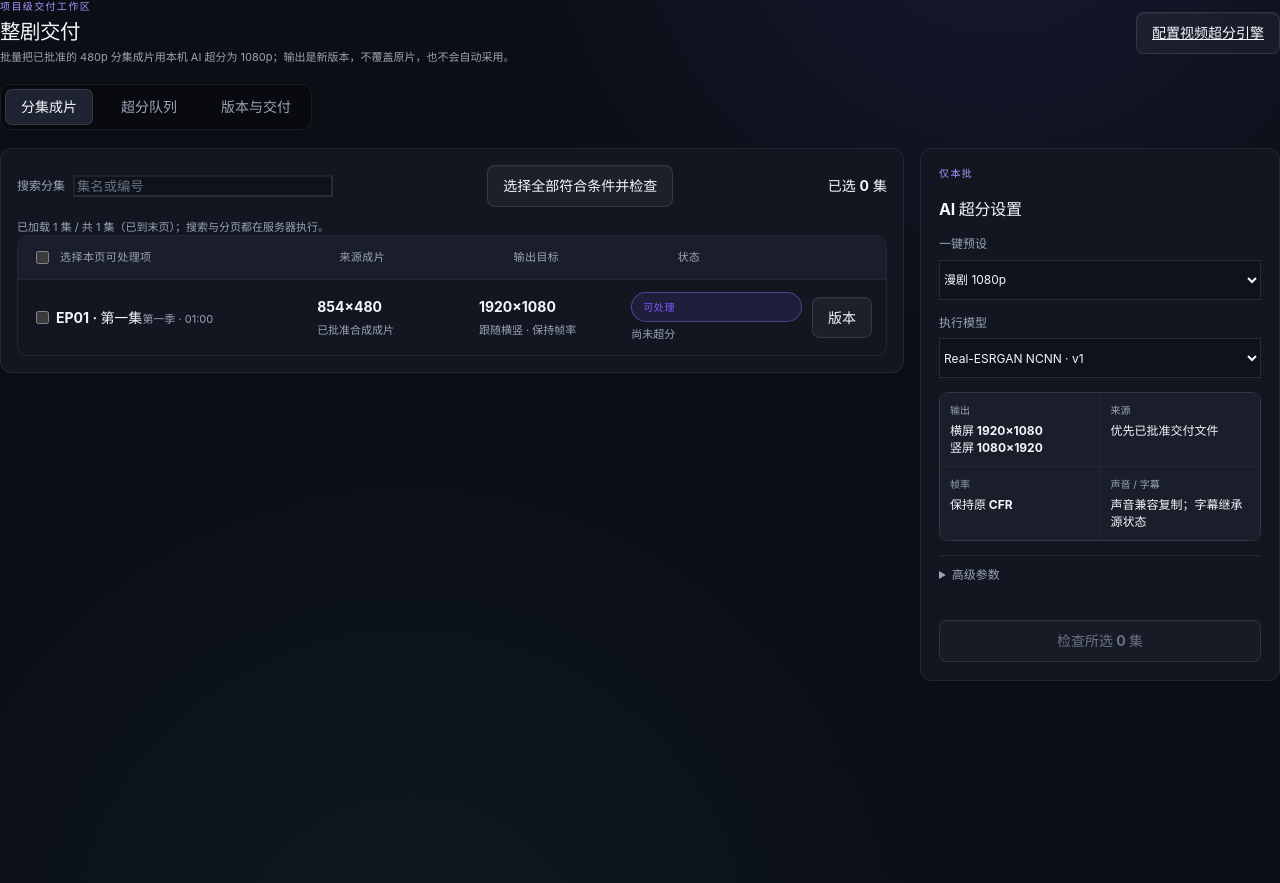
Test case: ProjectDeliveryPage › selects an approved episode, freezes a plan, and creates a non-deliverable five-second preview
Check: the heading "整剧交付" is shown, box [0,18,80,44]
Check: the text "854×480" is shown, box [317,298,382,315]
Click the checkbox named "选择 EP01 第一集" at (42, 317), box [36,311,49,324]
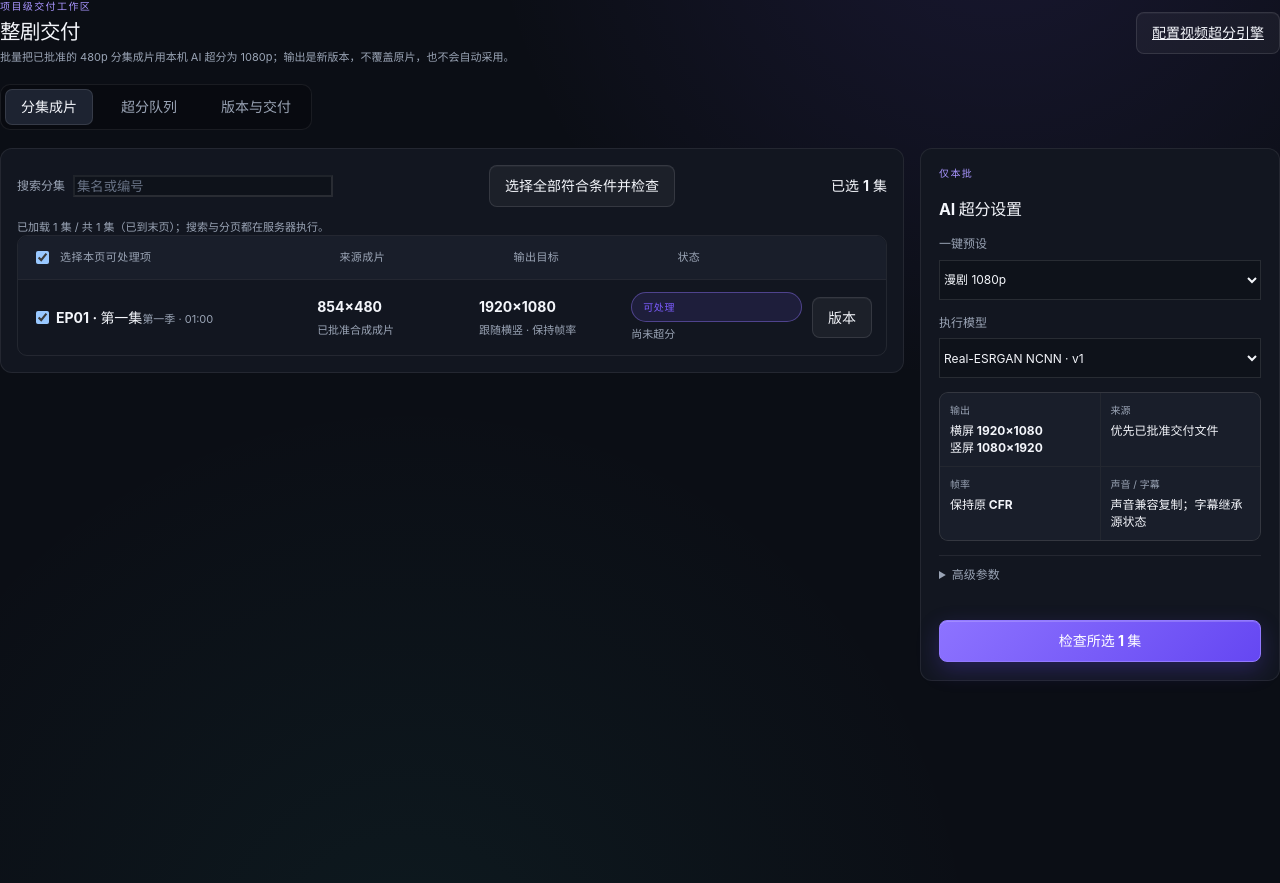
Click the button "检查所选 1 集" at (1100, 641), box [939,620,1261,662]
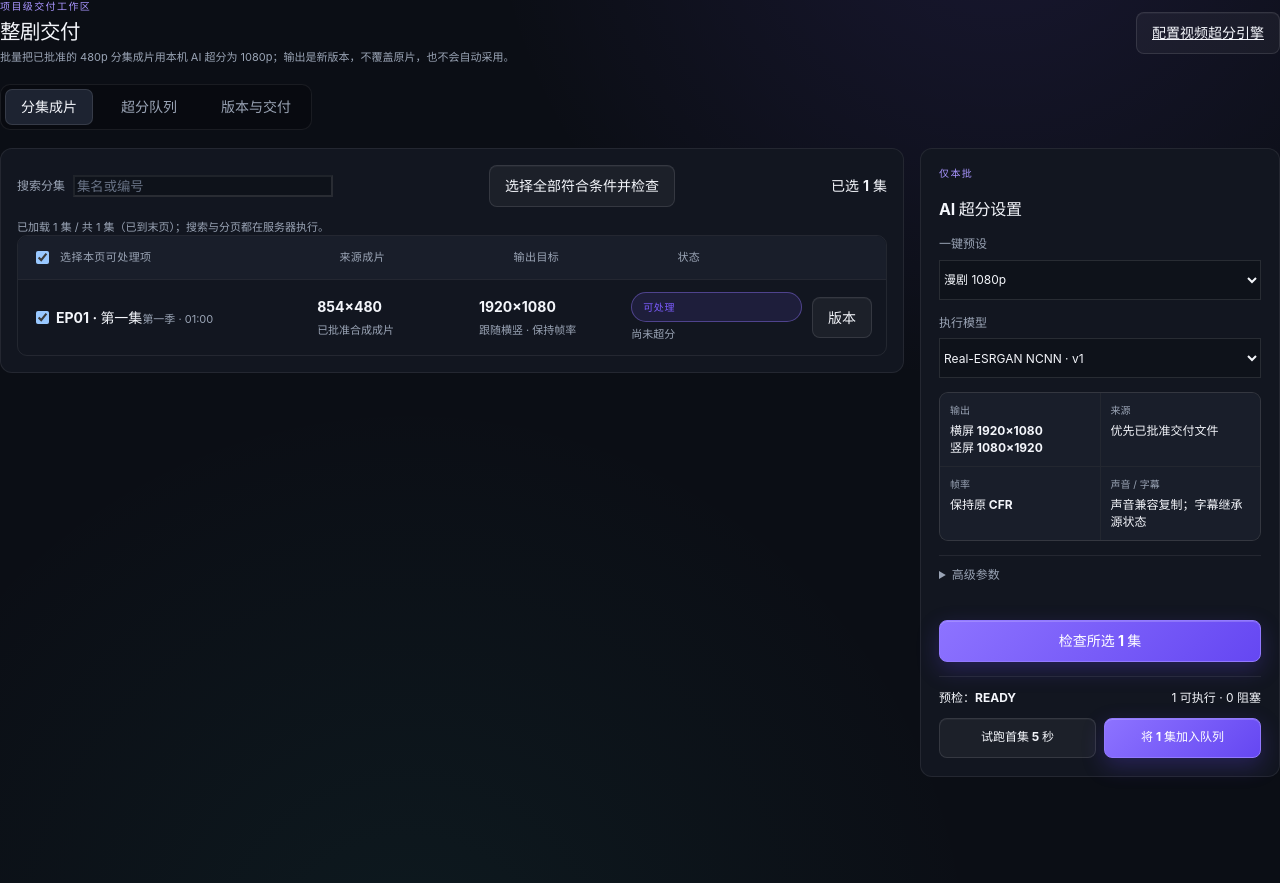
Check: the text "预检：READY" is shown, box [939,689,1016,708]
Click the button "试跑首集 5 秒" at (1018, 738), box [939,718,1096,758]
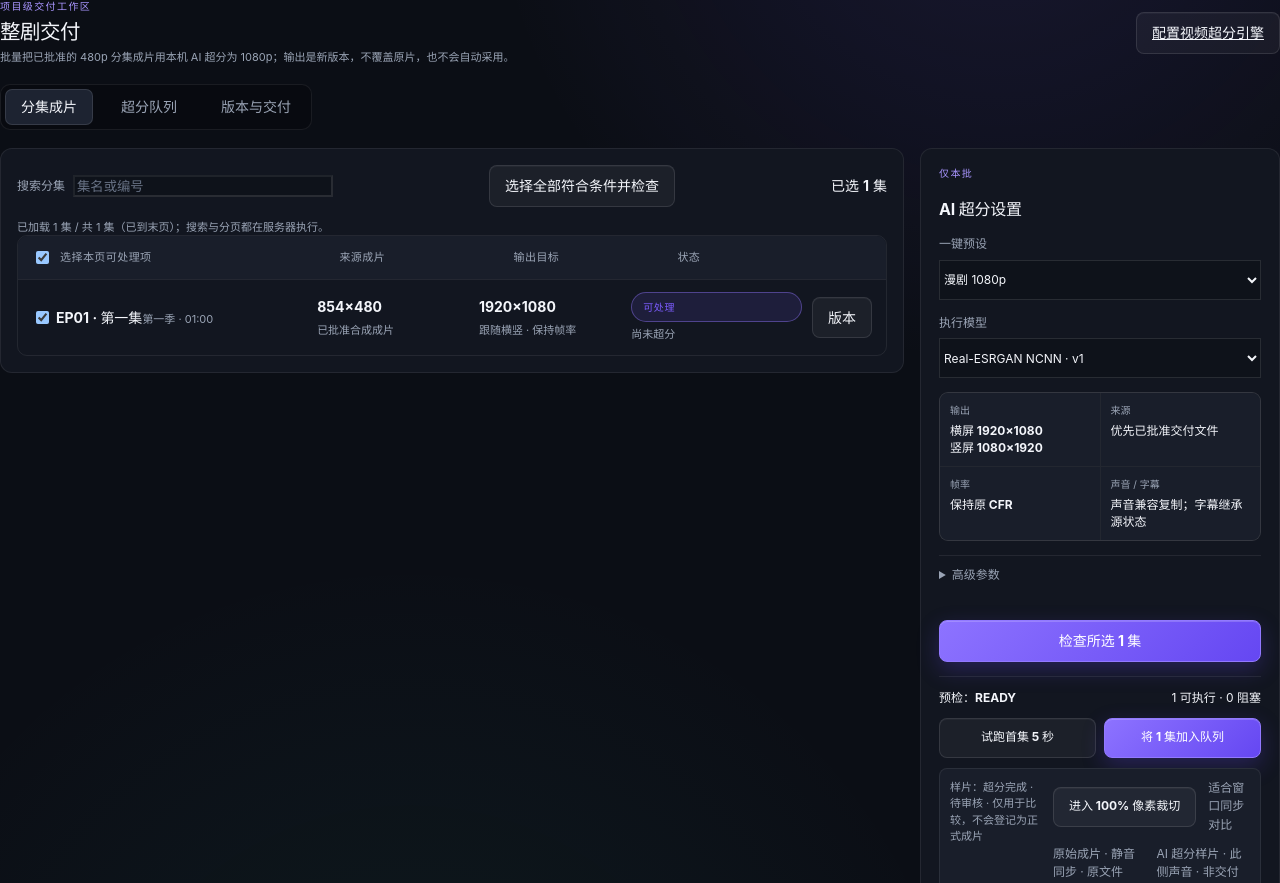
Check: the text "样片：超分完成 · 待审核 · 仅用于比较，不会登记为正式成片" is shown, box [950,780,1038,843]
Click the button "进入 100% 像素裁切" at (1124, 807), box [1053,787,1196,827]
(page scrolled)
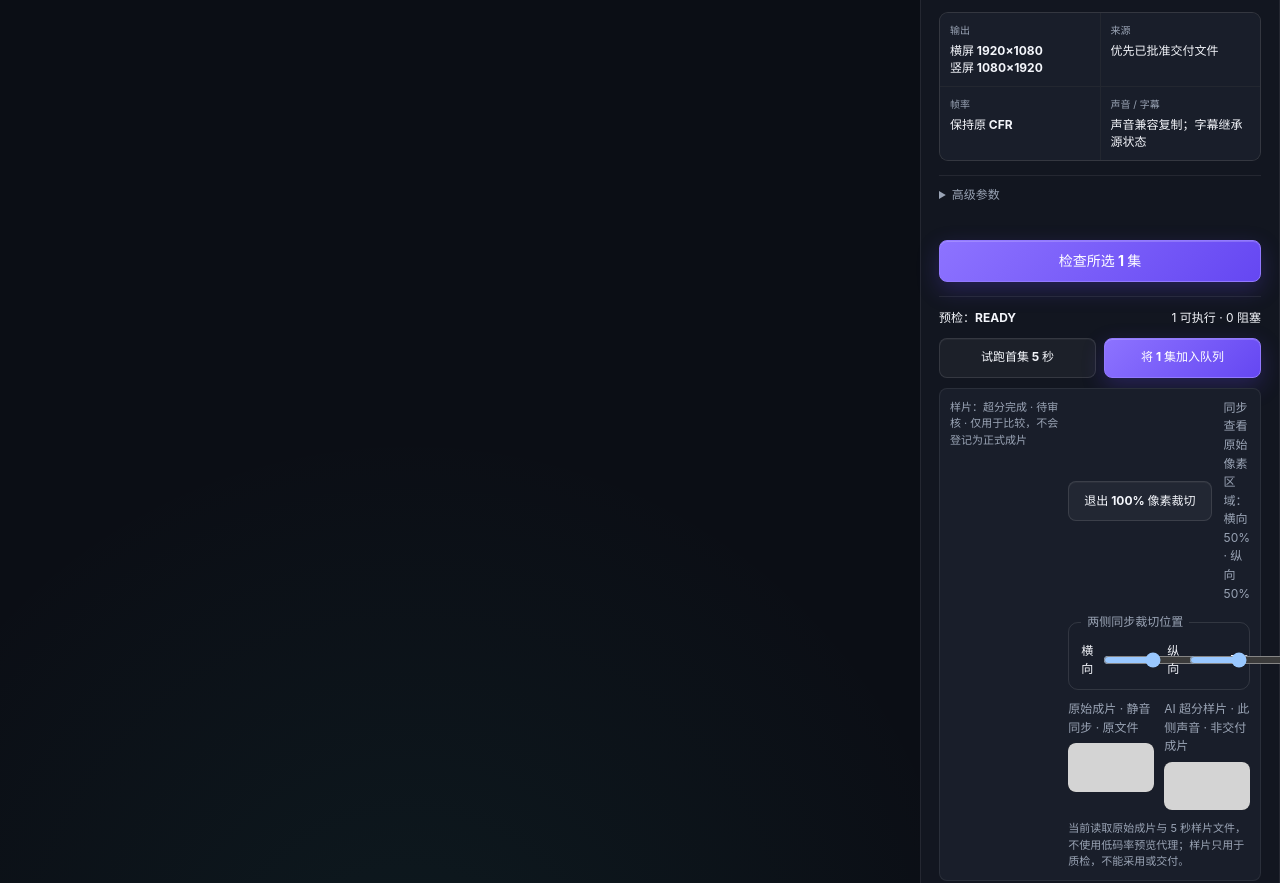
Check: the element "两侧同步裁切位置" is shown, box [1068,613,1250,690]
